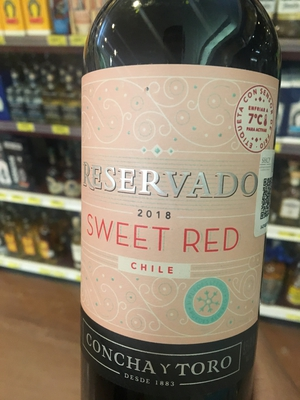reservado sweet red: (69, 20, 288, 400)
